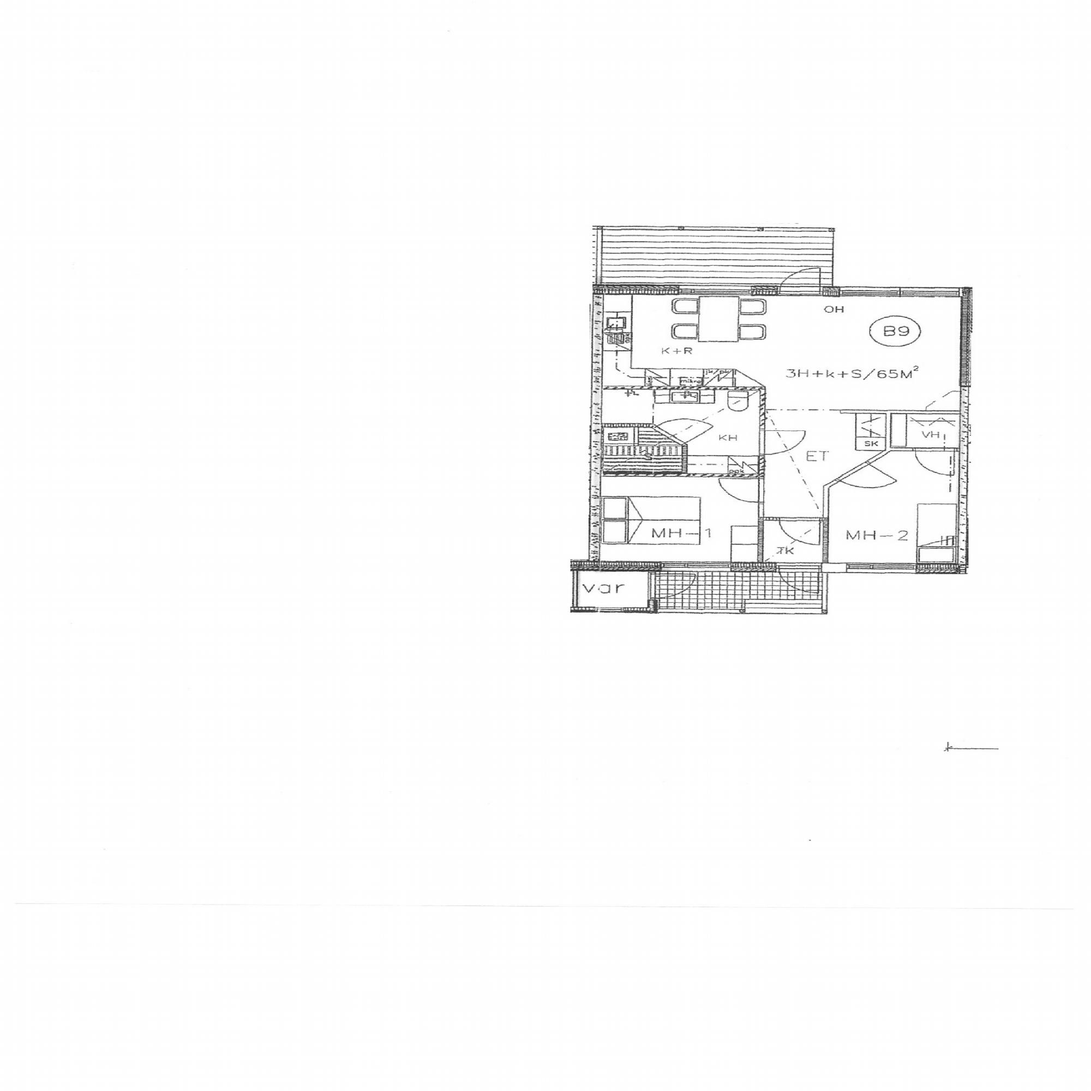wall: (592, 286, 970, 296), (823, 448, 898, 489), (648, 562, 968, 571), (959, 288, 968, 571), (591, 286, 603, 424), (591, 477, 603, 571), (760, 386, 765, 571), (651, 424, 687, 446), (592, 386, 765, 390), (591, 424, 604, 477), (592, 471, 688, 477), (573, 607, 657, 613), (603, 562, 657, 571), (648, 562, 657, 613), (823, 488, 828, 571), (594, 226, 600, 287), (574, 562, 603, 571), (886, 448, 968, 451), (886, 411, 968, 414), (687, 474, 765, 477), (574, 562, 578, 613), (682, 445, 688, 477), (886, 411, 890, 451), (603, 424, 653, 427), (765, 518, 828, 520), (840, 412, 886, 414)
